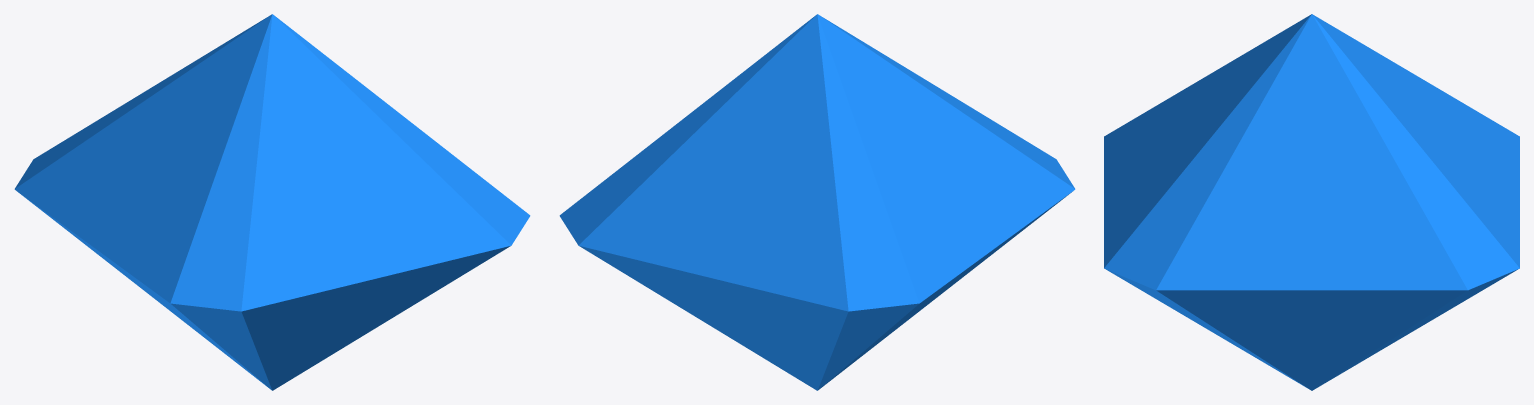
Rendered from Proto_Block_Gem_Faceted_02.fbx.
3 views of the same model, side by side, from view 1: azimuth 30°, elevation 25°; view 2: azimuth 150°, elevation 25°; view 3: azimuth 270°, elevation 25° (orthographic).
Visible parts, largest first — view 1: Proto_Block_Gem_Faceted_02; view 2: Proto_Block_Gem_Faceted_02; view 3: Proto_Block_Gem_Faceted_02.
Part boxes in pixels (x1,y1,x2,y2): Proto_Block_Gem_Faceted_02: (14, 14, 530, 390); Proto_Block_Gem_Faceted_02: (559, 14, 1075, 390); Proto_Block_Gem_Faceted_02: (1104, 14, 1519, 390).
Bounding box in the file's own units: 1 × 1 × 1.
